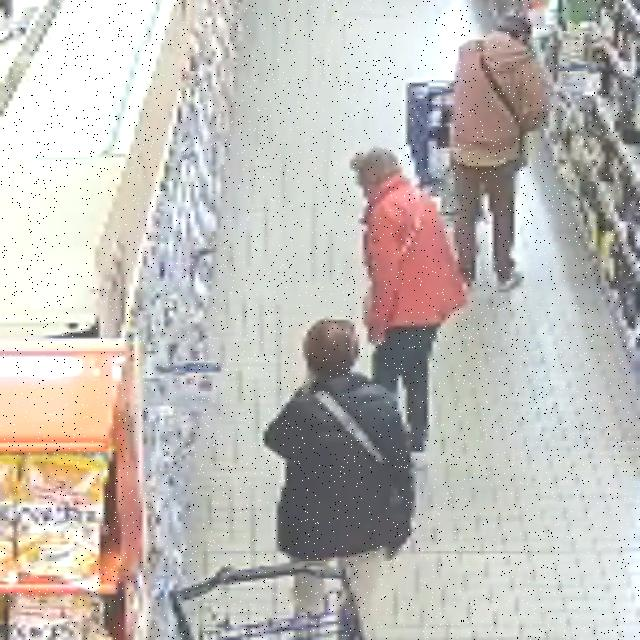bags: (477, 40, 527, 170), (314, 391, 386, 467), (400, 195, 422, 260)
hands: (368, 324, 384, 345)
person: (265, 319, 414, 637), (351, 148, 466, 465), (452, 14, 549, 291)
